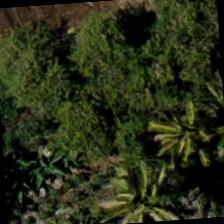Kelapa_Sawit: (134, 92, 223, 190), (93, 154, 189, 223)
